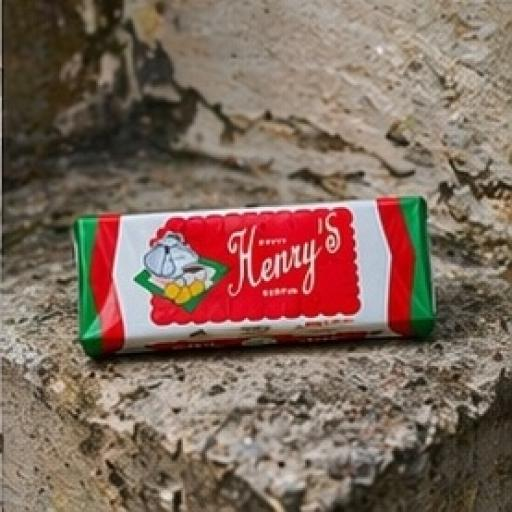golden: (29, 170, 472, 394)
